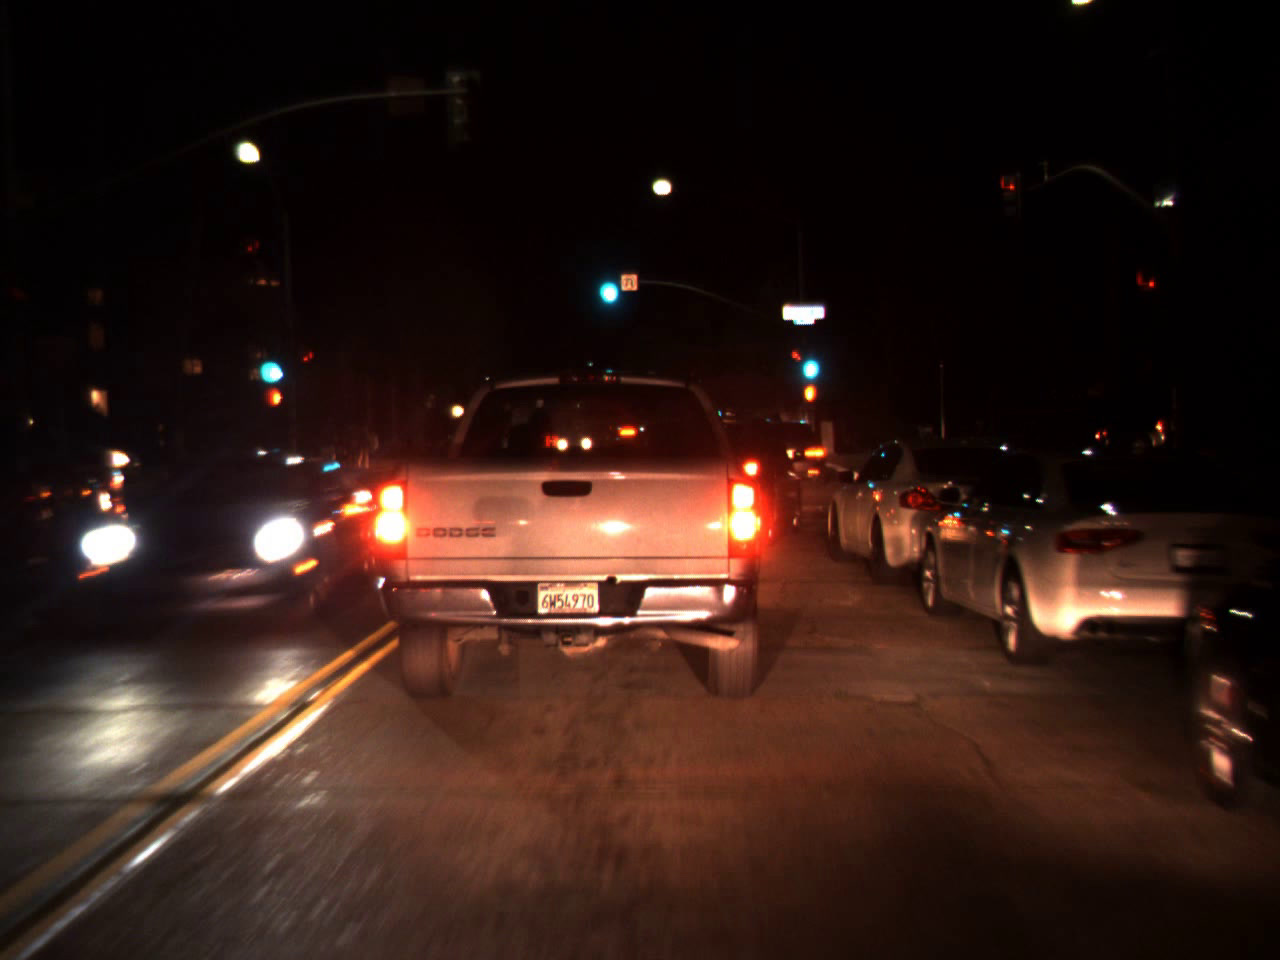go: (253, 334, 285, 391), (591, 257, 623, 311), (797, 335, 822, 386)
